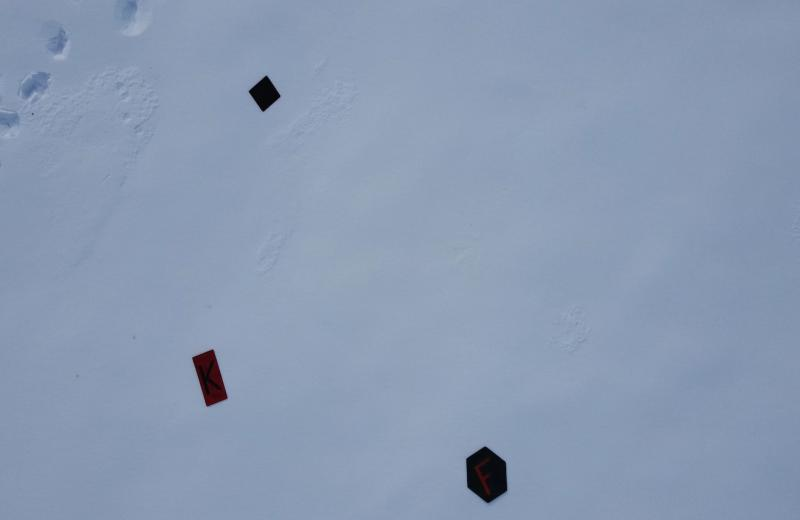Hexagon: (464, 446, 508, 504)
Rectangle: (190, 349, 230, 408)
Square: (247, 77, 280, 113)
